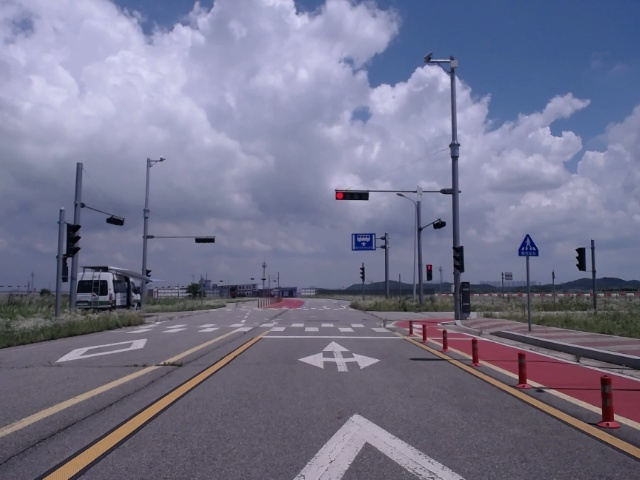red_4: (335, 191, 369, 200)
